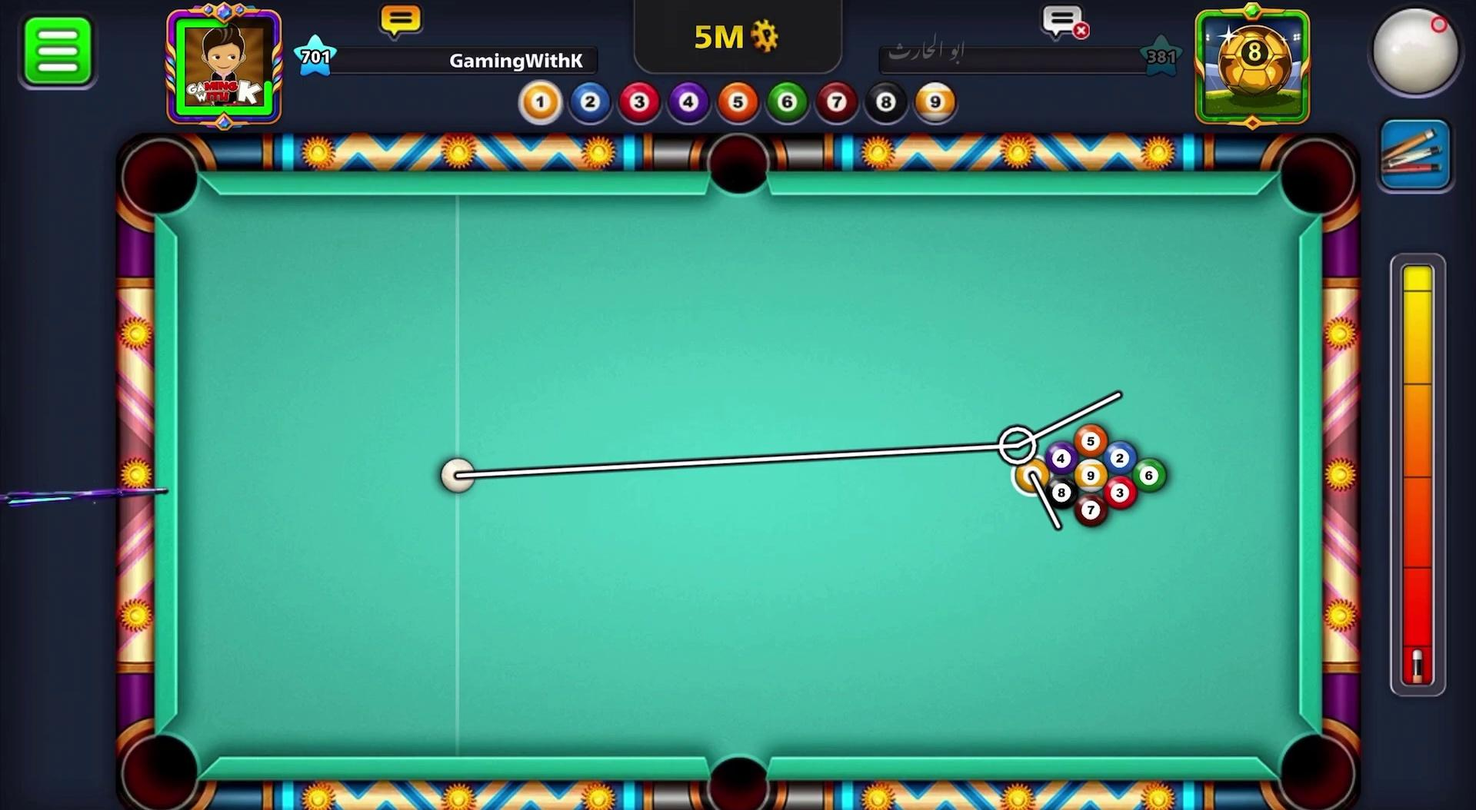Ball: (1009, 457, 1052, 497), (1102, 437, 1142, 477), (1039, 474, 1077, 511), (1072, 490, 1108, 529), (1132, 454, 1168, 492), (1044, 439, 1080, 477), (1102, 472, 1138, 510), (1075, 421, 1110, 459), (1072, 457, 1108, 493)
Force: (1388, 247, 1451, 699)
Guideline: (463, 379, 1132, 540)
Hole: (108, 129, 212, 230), (1269, 130, 1365, 229), (1264, 716, 1364, 809), (111, 724, 208, 809), (685, 736, 785, 809), (701, 123, 778, 204)
Play_Area: (177, 194, 1299, 759)
Spin: (1346, 0, 1475, 114)
White: (431, 453, 474, 498)
